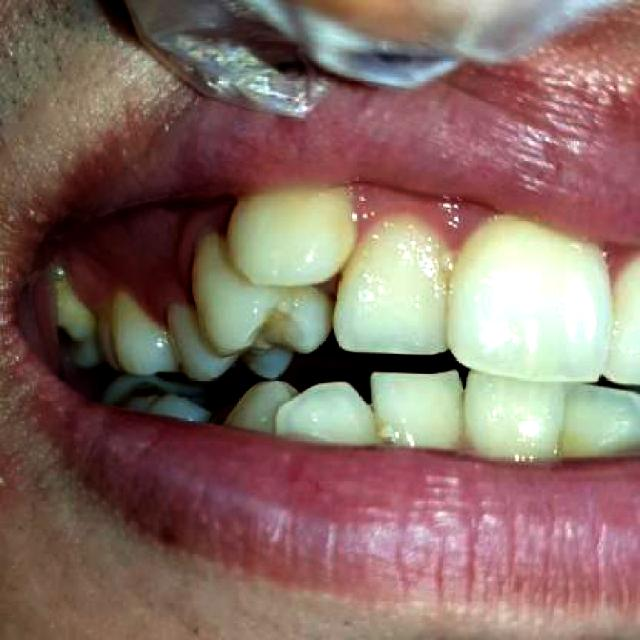Plaque: (434, 209, 483, 265)
